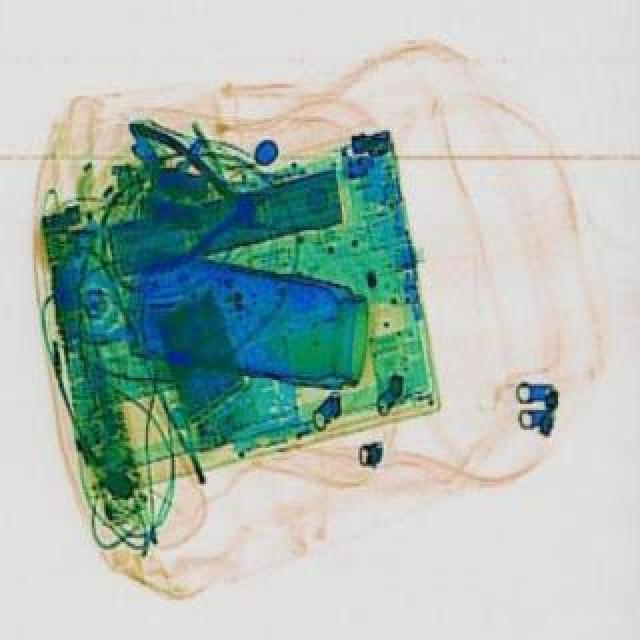wrench: (112, 118, 284, 286)
